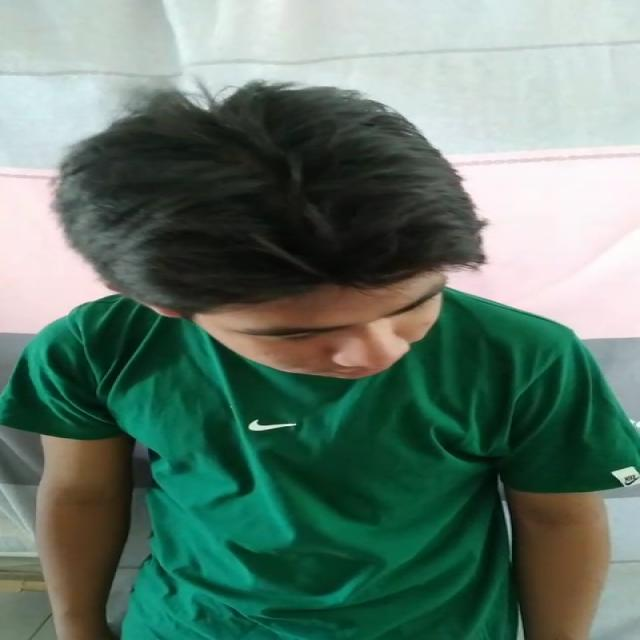9_cabeza_baja: (49, 78, 485, 380)
